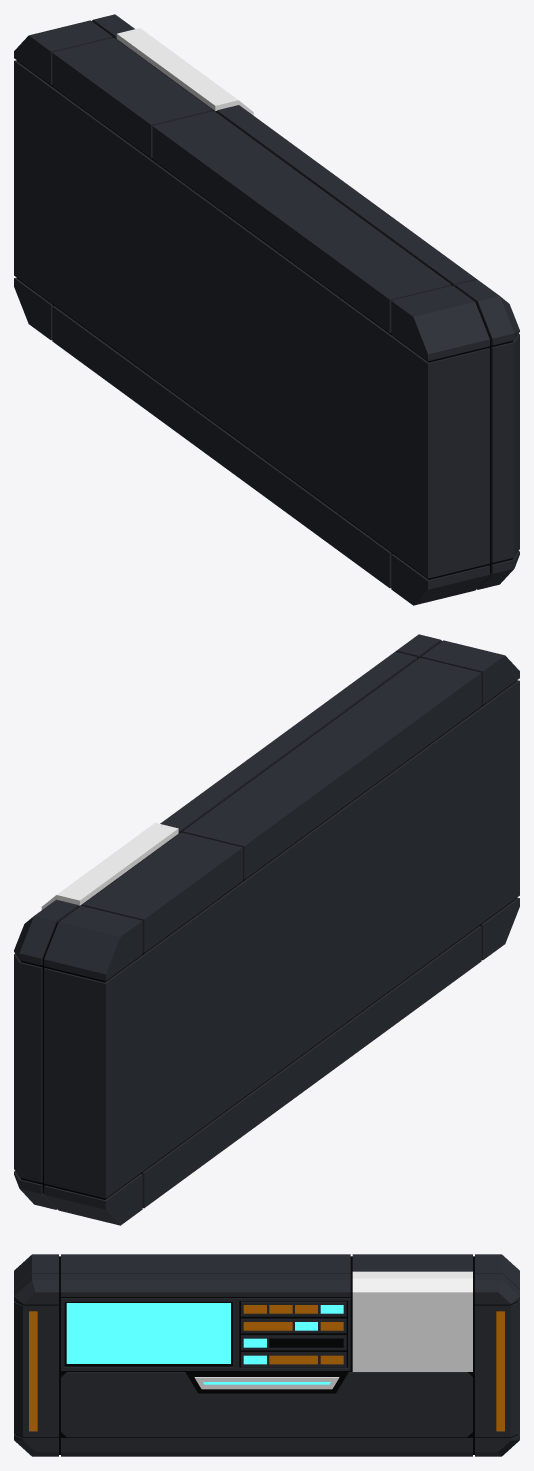
The model's file is SM_Wall_Storage.fbx.
The picture shows the model from 3 angles, top to bottom: view 1: azimuth 30°, elevation 25°; view 2: azimuth 150°, elevation 25°; view 3: azimuth 270°, elevation 25°; orthographic projection. The views are drawn at different scales.
Visible parts, largest first — view 1: SM_Wall_Storage_Module; view 2: SM_Wall_Storage_Module; view 3: SM_Wall_Storage_Module, SM_Wall_Storage_Drawer.
Part boxes in pixels (box(x1,y1,x2,y2)): SM_Wall_Storage_Module: box(14, 14, 519, 605); SM_Wall_Storage_Module: box(14, 634, 519, 1225); SM_Wall_Storage_Module: box(14, 1254, 519, 1456); SM_Wall_Storage_Drawer: box(61, 1372, 472, 1437).
Size of the model in its own units: 18.57 by 50.57 by 130.
